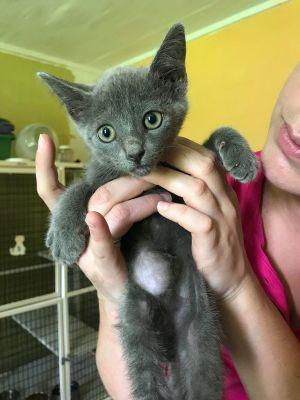rblue: (41, 20, 203, 180)
